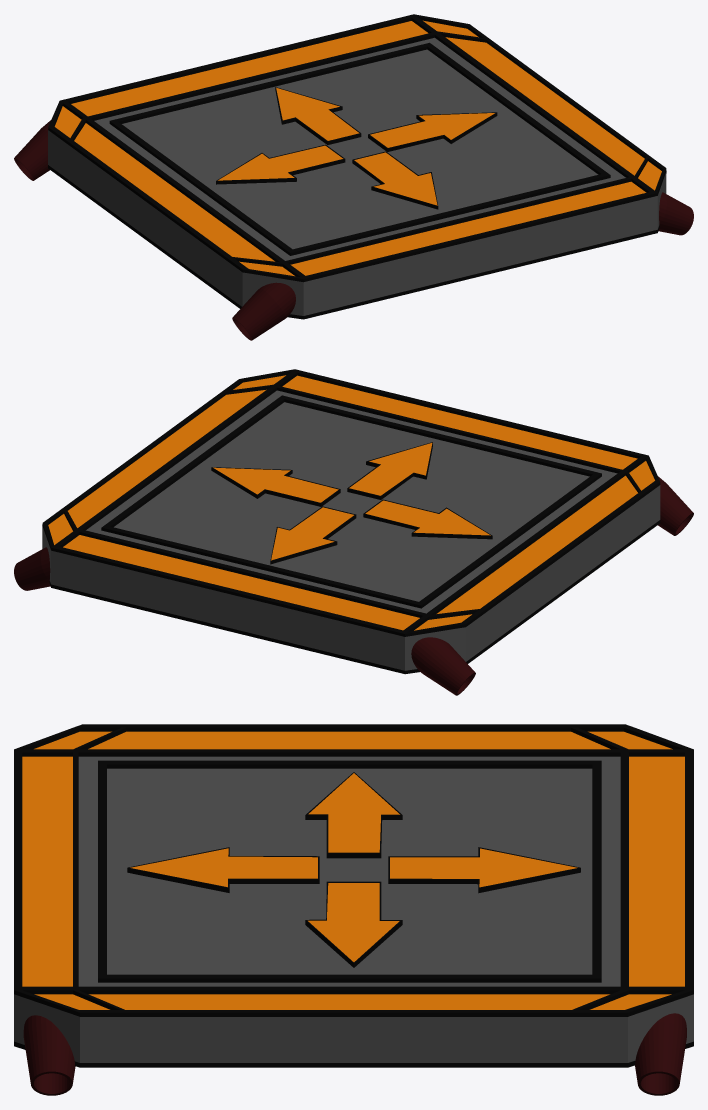
Rendered from GoPlatform.fbx.
3 renders of one model, top to bottom at view 1: azimuth 30°, elevation 25°; view 2: azimuth 150°, elevation 25°; view 3: azimuth 270°, elevation 25°, orthographic. The views are drawn at different scales.
Parts seen in each view (by area): view 1: Цилиндр.002; view 2: Цилиндр.002; view 3: Цилиндр.002.
Part boxes in pixels (<box>): Цилиндр.002: <box>14,14,693,340</box>; Цилиндр.002: <box>14,369,693,695</box>; Цилиндр.002: <box>14,724,693,1095</box>.
Bounding box in the file's own units: 215 × 27.32 × 200.
